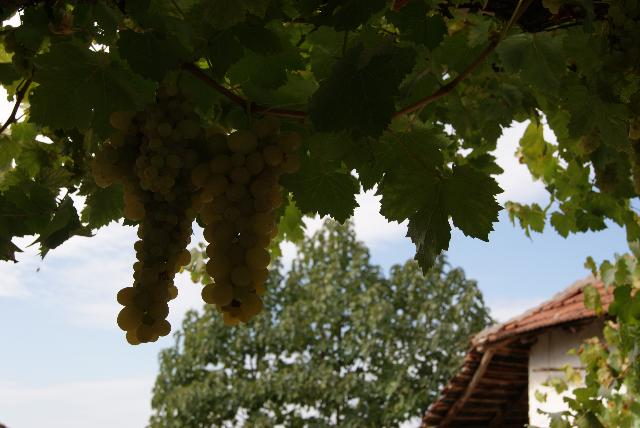grapes: (91, 85, 210, 345), (191, 115, 301, 326), (136, 85, 200, 189)
